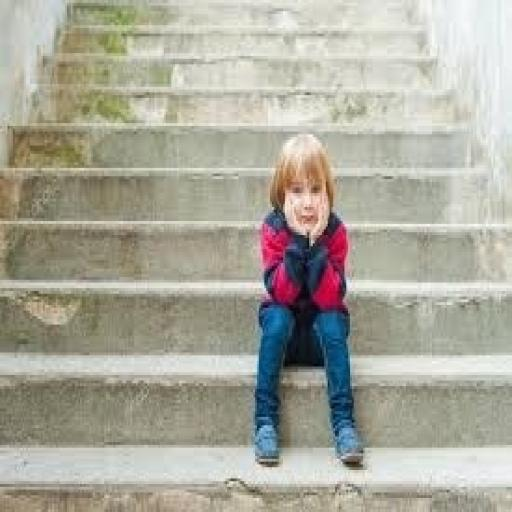sitting: (249, 129, 367, 470)
